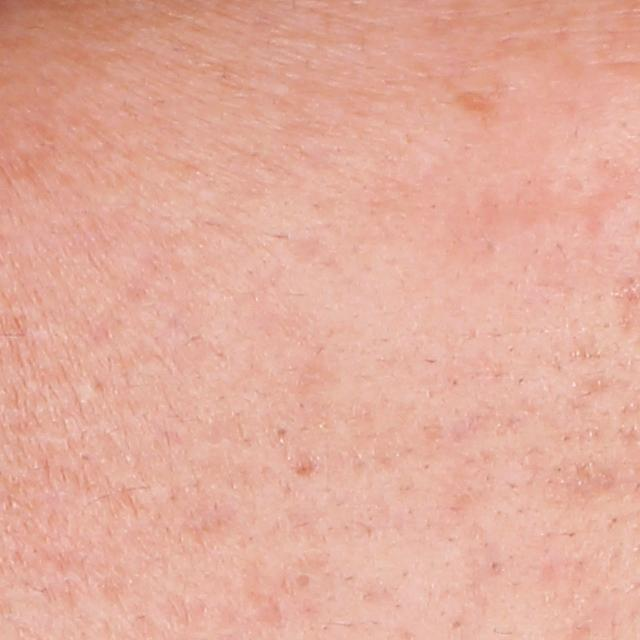comedo: (293, 571, 315, 589), (273, 424, 292, 441)
